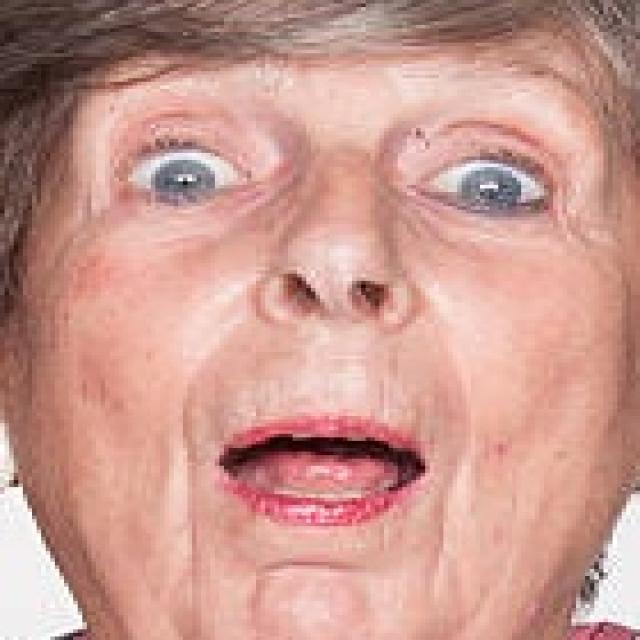Anxiety: (4, 21, 635, 636)
